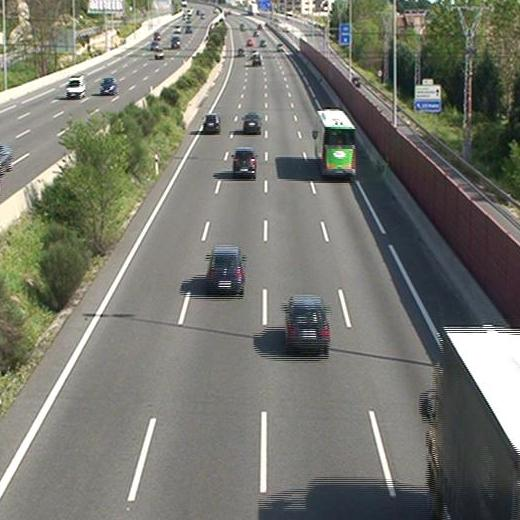bus: (313, 109, 355, 176)
car: (284, 298, 331, 350), (206, 247, 246, 293), (232, 148, 256, 177), (202, 114, 221, 133), (243, 113, 261, 132), (252, 53, 263, 65)
